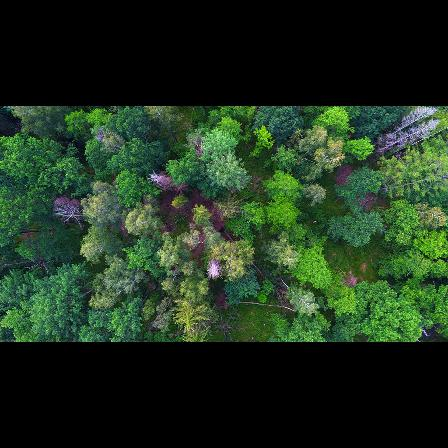Dead: (374, 120, 438, 154), (376, 108, 434, 144), (51, 193, 89, 231), (149, 167, 175, 190), (203, 259, 225, 281)
